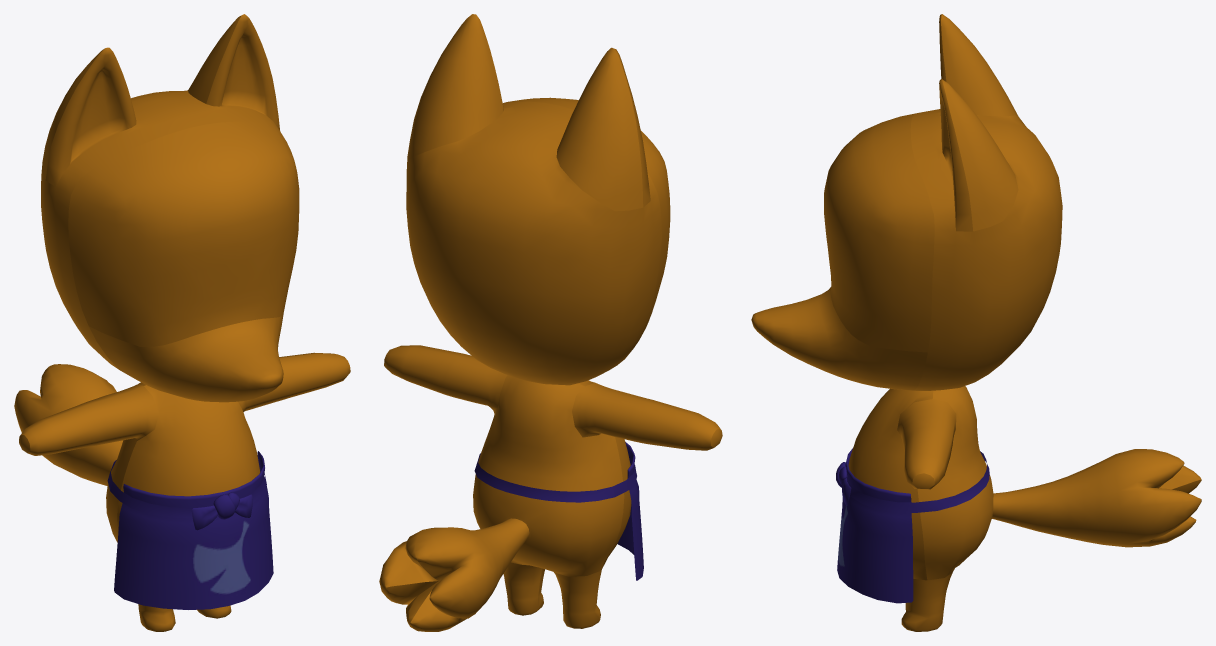
3 renders of one model, left to right at view 1: azimuth 30°, elevation 25°; view 2: azimuth 150°, elevation 25°; view 3: azimuth 270°, elevation 25°, orthographic. The views are drawn at different scales.
Visible parts, largest first — view 1: Apron__mBottoms; view 2: Apron__mBottoms; view 3: Apron__mBottoms.
Part boxes in pixels (left/top/right/bottom): Apron__mBottoms: left=14, top=14, right=350, bottom=631; Apron__mBottoms: left=379, top=14, right=722, bottom=631; Apron__mBottoms: left=751, top=14, right=1201, bottom=631.
Size of the model in its own units: 9.39 by 15.88 by 11.47.
3 materials, 3 textured.
